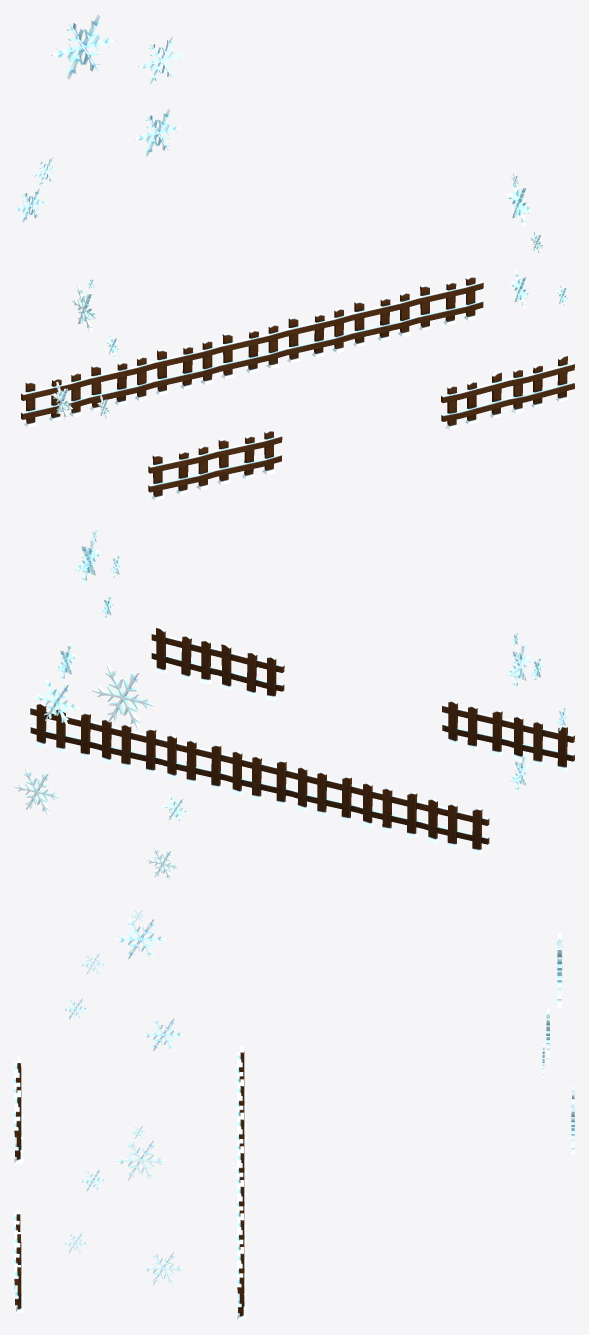
The model's file is obj_fence.gltf.
The picture shows the model from 3 angles, top to bottom: view 1: azimuth 30°, elevation 25°; view 2: azimuth 150°, elevation 25°; view 3: azimuth 270°, elevation 25°; orthographic projection. The views are drawn at different scales.
Parts seen in each view (by area): view 1: obj_fence; view 2: obj_fence; view 3: obj_fence.
Part boxes in pixels (box(x1,y1,x2,y2)): obj_fence: box(14, 14, 574, 500); obj_fence: box(14, 529, 574, 880); obj_fence: box(14, 909, 574, 1320).
Size of what is drawn, in the model's own units: 15.26 by 7.77 by 15.32.
Materials: 1 (1 with a texture image).
